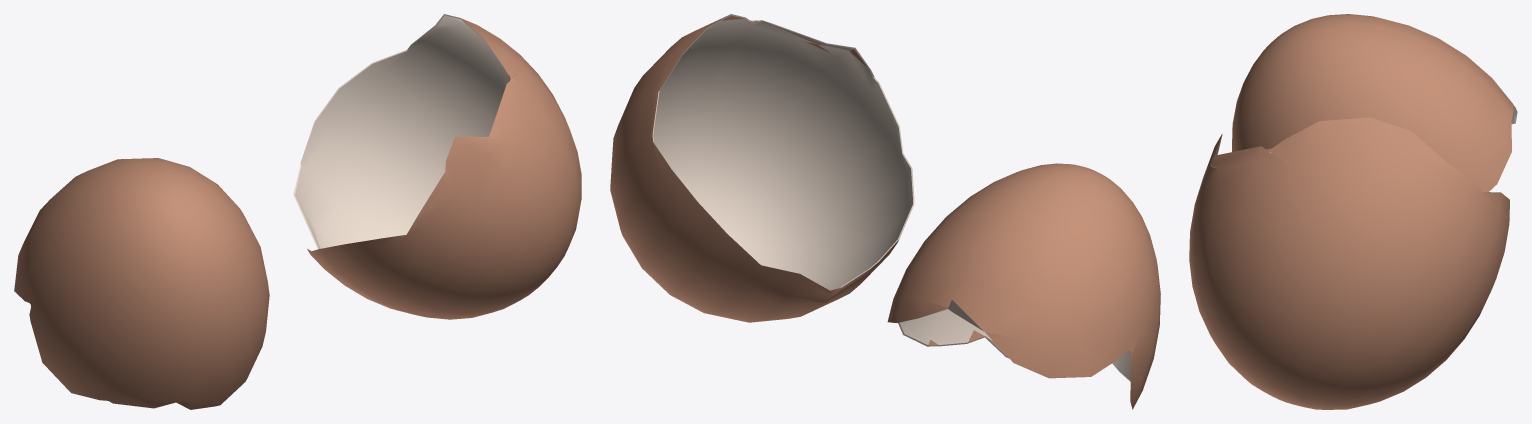
The model's file is eggshells.fbx.
The picture shows the model from 3 angles, left to right: view 1: azimuth 30°, elevation 25°; view 2: azimuth 150°, elevation 25°; view 3: azimuth 270°, elevation 25°; orthographic projection. The views are drawn at different scales.
Parts seen in each view (by area): view 1: pSphere2, pasted__pSphere2; view 2: pSphere2, pasted__pSphere2; view 3: pSphere2, pasted__pSphere2.
Boxes of the visible parts, x1,y1,x2,y2 form: pSphere2: (293,14,581,319); pasted__pSphere2: (14,158,269,409); pSphere2: (610,14,914,322); pasted__pSphere2: (887,163,1160,409); pSphere2: (1189,117,1509,409); pasted__pSphere2: (1232,14,1517,191).
Size of the model in its own units: 16.84 by 9.2 by 8.79.
